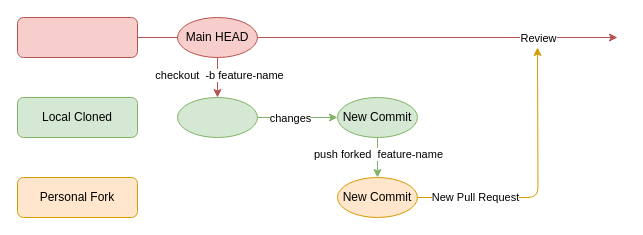
This 643x235 diagram has some shape labels left out. The shapes that lost their labels are listed below. From the top down, each one's centre as x and y in pixels, then its label:
At (77,37): "Upstream Repo".
At (217,117): "Feature Branch".
